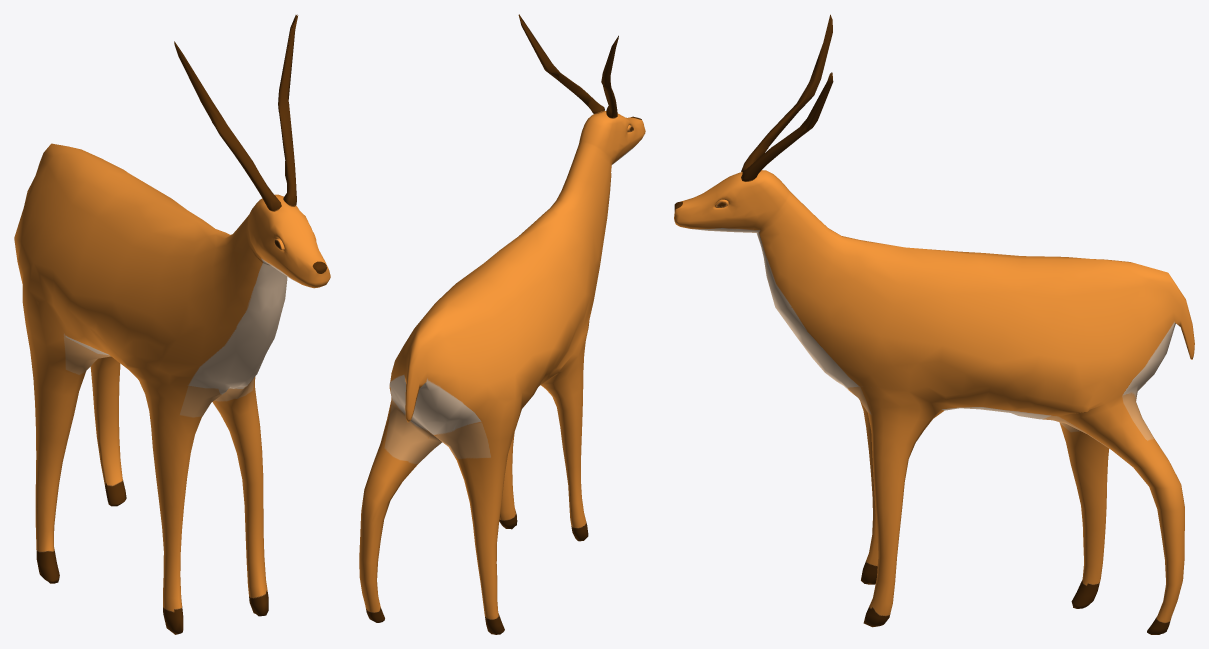
The model's file is deer_smooth2.fbx.
3 renders of one model, left to right at view 1: azimuth 30°, elevation 25°; view 2: azimuth 150°, elevation 25°; view 3: azimuth 270°, elevation 25°, orthographic. The views are drawn at different scales.
Visible parts, largest first — view 1: pCube2; view 2: pCube2; view 3: pCube2.
Part boxes in pixels (<box>): pCube2: <box>14,14,330,634</box>; pCube2: <box>359,14,645,634</box>; pCube2: <box>674,14,1194,634</box>.
Size of the model in its own units: 7.43 by 31.13 by 25.06.
